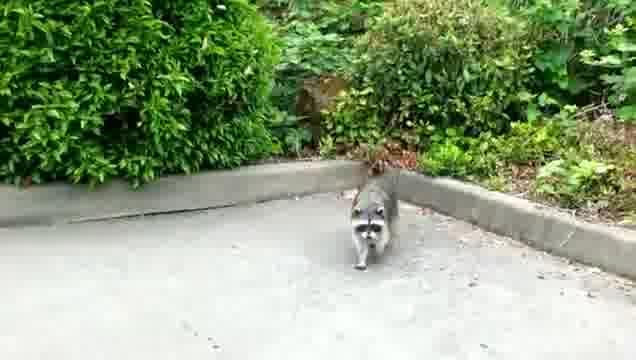raccoon: (349, 173, 397, 274)
